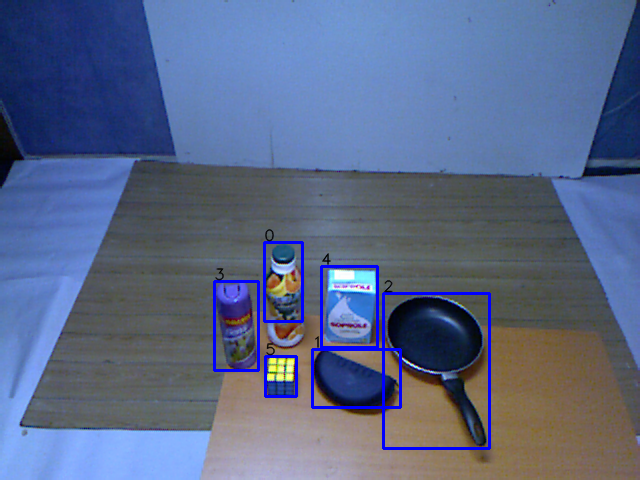aerosol: (210, 279, 264, 374)
cubix: (260, 354, 300, 398)
estuche: (310, 346, 403, 414)
leche: (318, 265, 381, 350)
sarten: (379, 292, 498, 452)
yogurt: (258, 241, 308, 353)
